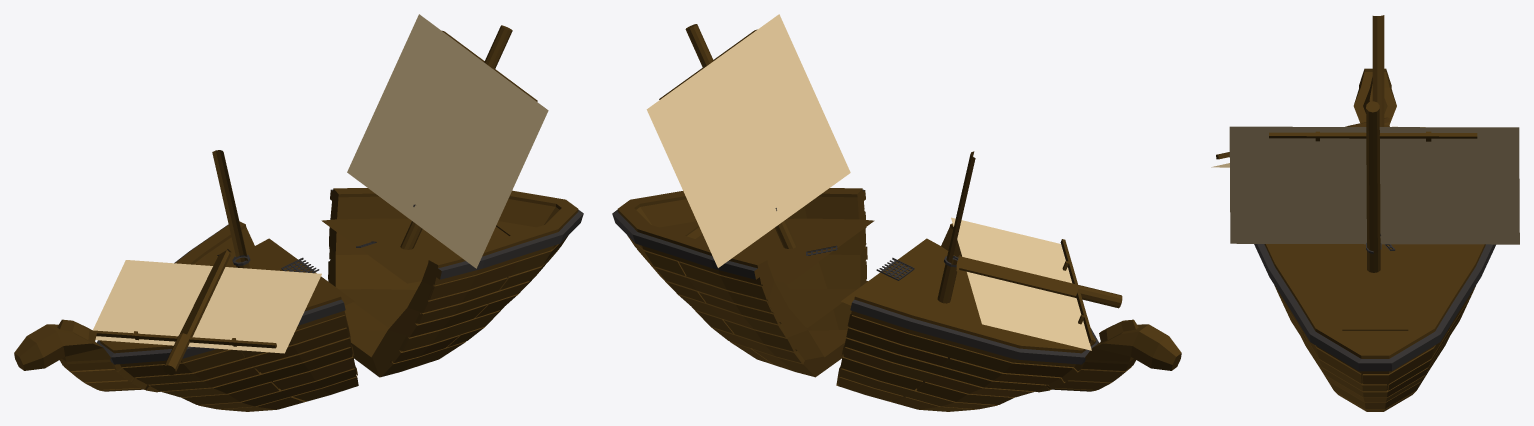
File: BrokenBoat.glb
The picture shows the model from 3 angles, left to right: view 1: azimuth 30°, elevation 25°; view 2: azimuth 150°, elevation 25°; view 3: azimuth 270°, elevation 25°; orthographic projection. The views are drawn at different scales.
Visible parts, largest first — view 1: boat.002; view 2: boat.002; view 3: boat.002.
Part boxes in pixels (x1,y1,x2,y2): boat.002: [14, 14, 583, 411]; boat.002: [612, 14, 1181, 411]; boat.002: [1211, 15, 1519, 411].
Bounding box in the file's own units: 43.72 × 23.97 × 18.99.
